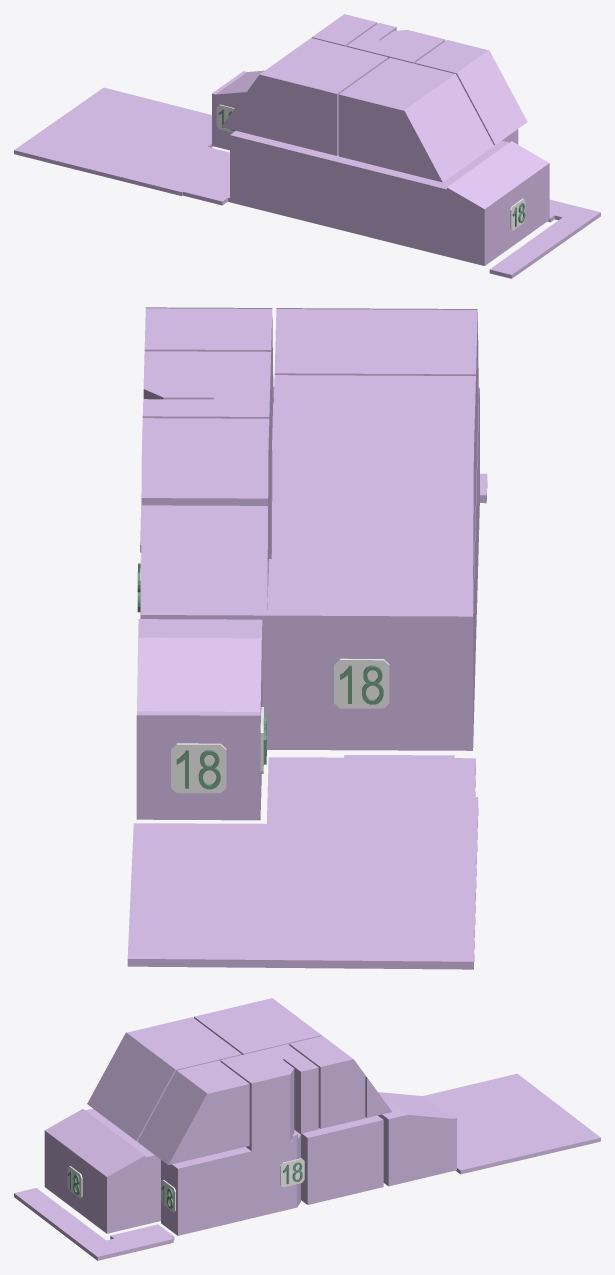
The picture shows the model from 3 angles, top to bottom: view 1: azimuth 30°, elevation 25°; view 2: azimuth 150°, elevation 25°; view 3: azimuth 270°, elevation 25°; orthographic projection. The views are drawn at different scales.
Parts seen in each view (by area): view 1: g_1, g_13, g_8, g_7, g_0, g_9, g_14, g_10, g_5, g_6, g_15, g_11; view 2: g_13, g_7, g_0, g_5, g_8, g_12, g_6, g_10, g_9, g_11, g_30, g_18 (+1 smaller); view 3: g_1, g_13, g_8, g_9, g_0, g_4, g_5, g_7, g_6, g_11, g_2, g_10 (+4 smaller).
Part boxes in pixels (x1,y1,x2,y2): g_1: (306,140,549,265); g_13: (14,87,229,205); g_8: (338,57,493,182); g_7: (221,38,388,155); g_0: (230,131,311,221); g_9: (415,40,527,144); g_14: (489,217,585,278); g_10: (346,23,432,63); g_5: (212,70,264,150); g_6: (311,14,377,46); g_15: (547,199,600,226); g_11: (380,29,445,49); g_13: (127,755,478,969); g_7: (271,375,475,613); g_0: (141,542,474,750); g_5: (136,619,262,820); g_8: (274,308,478,492); g_12: (141,505,267,612); g_6: (141,418,269,585); g_10: (142,351,271,536); g_9: (144,307,273,463); g_11: (143,351,214,399); g_30: (171,743,226,793); g_18: (334,658,389,708); g_1: (44,1108,160,1233); g_13: (427,1073,600,1174); g_8: (87,1017,241,1140); g_9: (137,1060,249,1164); g_0: (294,1115,383,1204); g_4: (161,1147,248,1235); g_5: (378,1092,456,1186); g_7: (194,998,321,1054); g_6: (289,1036,365,1128); g_11: (239,1059,294,1145); g_2: (243,1130,300,1218); g_10: (220,1044,318,1133).
Size of the model in its own units: 15.08 by 5.36 by 20.4.
